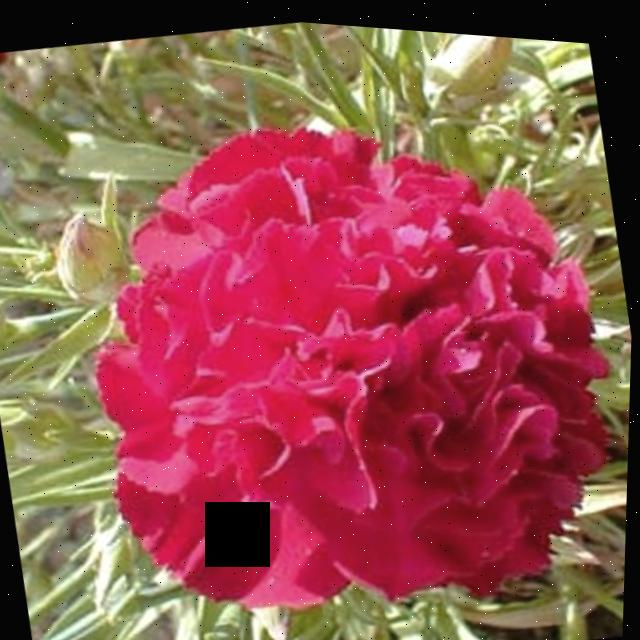carnation: (57, 58, 639, 640)
